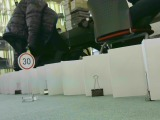speed_30: (17, 52, 35, 70)
